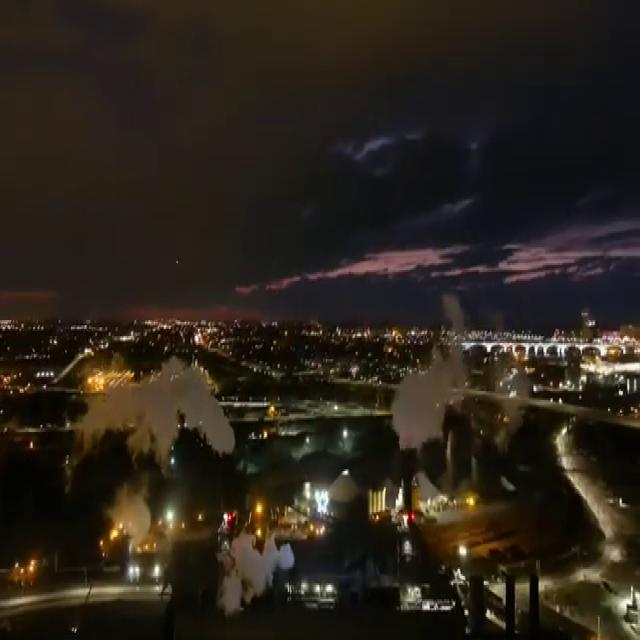smoke: (82, 359, 236, 476), (390, 329, 462, 453), (218, 516, 296, 615), (98, 475, 166, 564)
